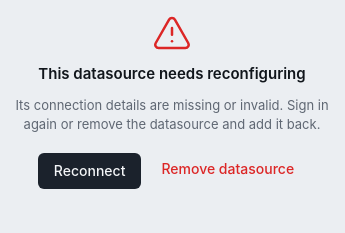
InvalidDatasourceState — failed authenticateStart feedback (Decision 5) › OAuth: authenticateStart {ok:false} surfaces an inline error instead of silently re-enabling
The image size is (345, 233).
Click the button "Reconnect": (90, 170) [38,152,141,188]
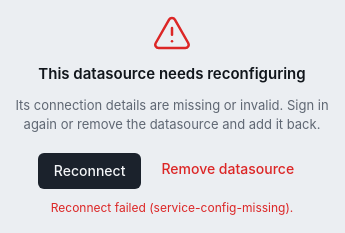
Result: the text "Reconnect failed (service-config-missing)." is shown at [51,198,293,216]
